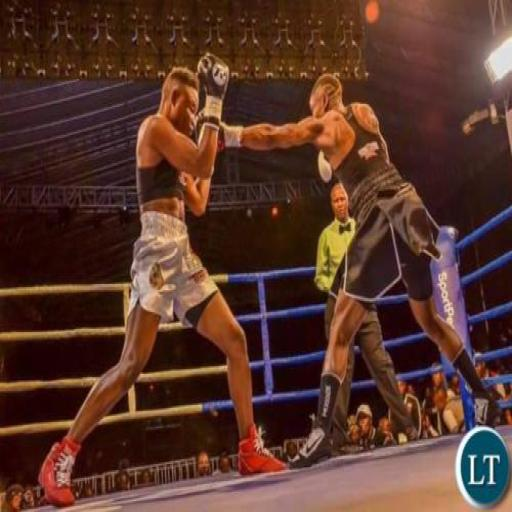boxing: (198, 67, 502, 470), (37, 51, 289, 509)
